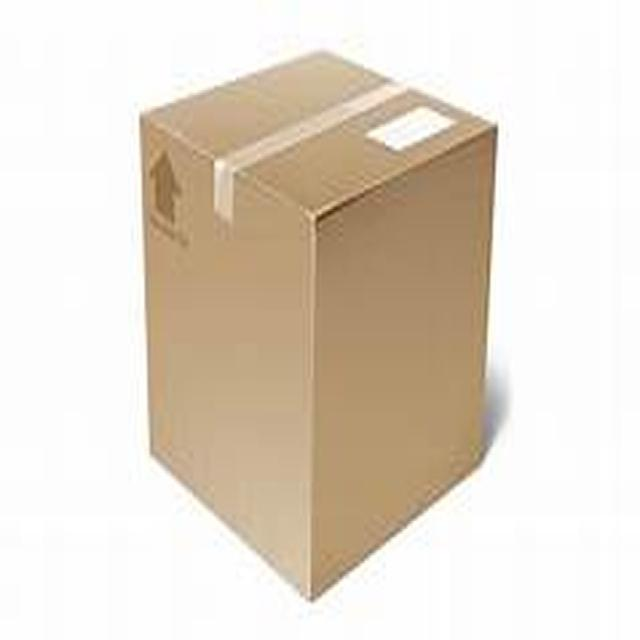box: (106, 14, 514, 618)
